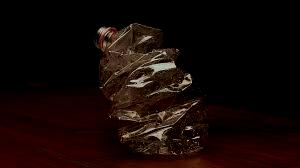Plastic: (94, 20, 211, 158)
